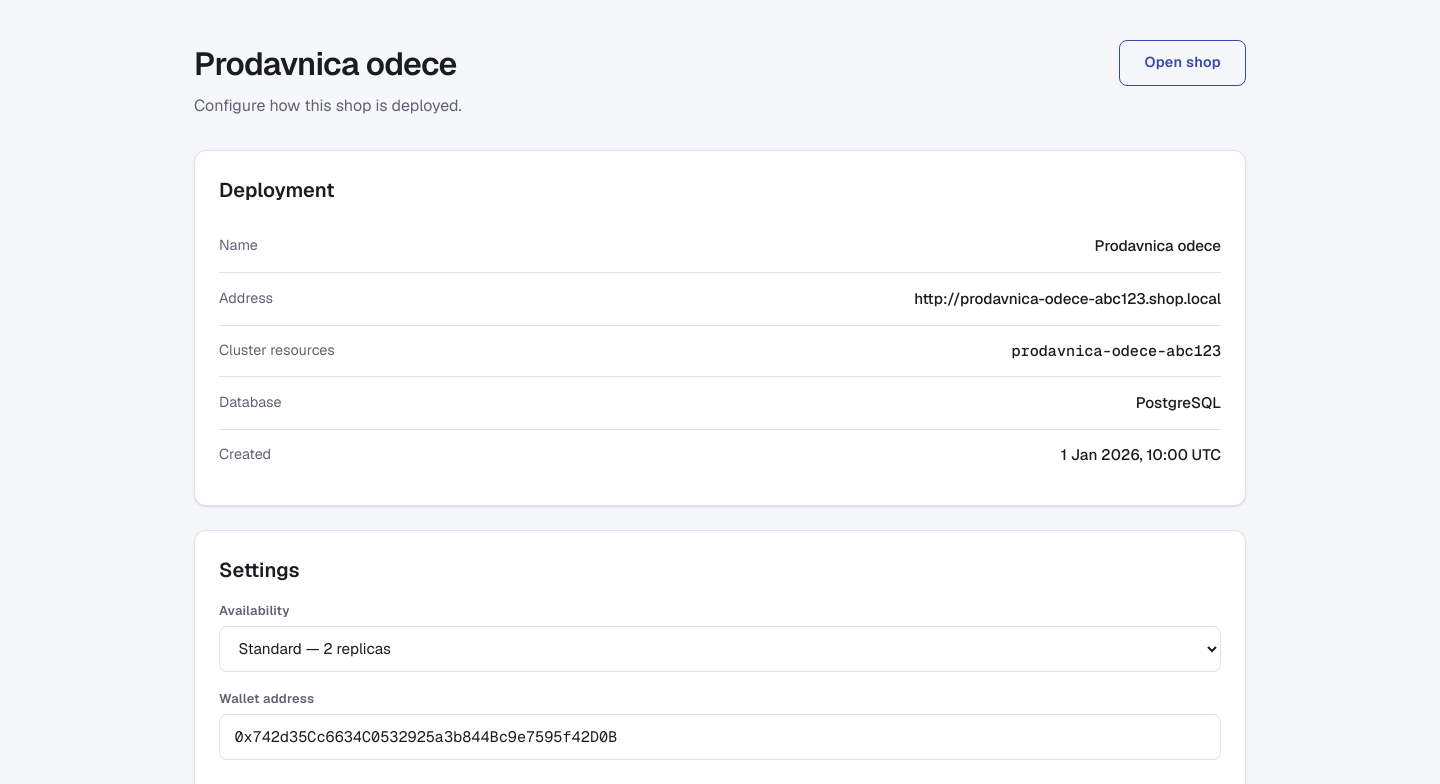
Test: ShopPage › confirms the change was accepted
Expected: the field labelled "Wallet address" is shown, left=219, top=714, right=1221, bottom=760
Select "High — 3 replicas" in the dropdown labelled "Availability": (720, 649) left=219, top=626, right=1221, bottom=672
(page scrolled)
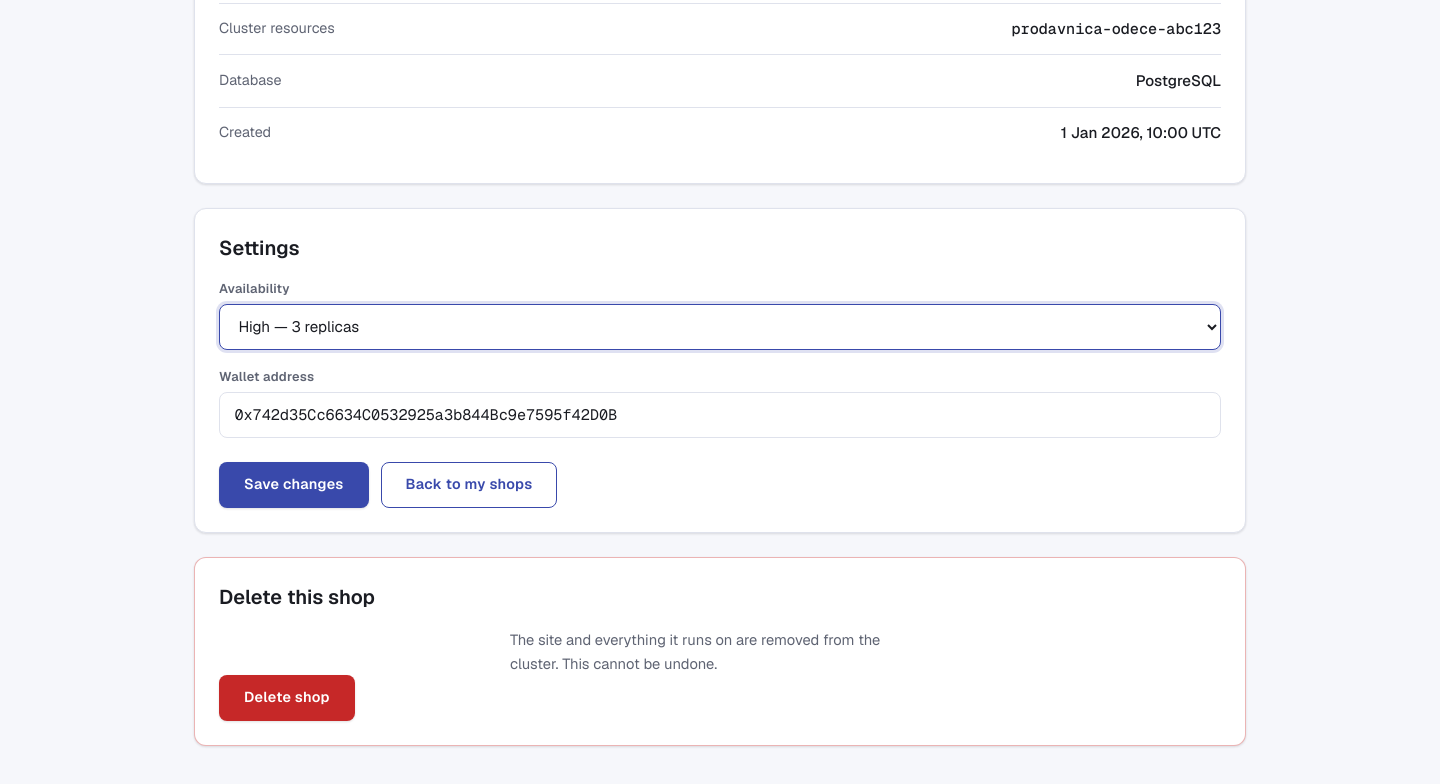
Click the button "Save changes": (294, 485) left=219, top=462, right=368, bottom=508
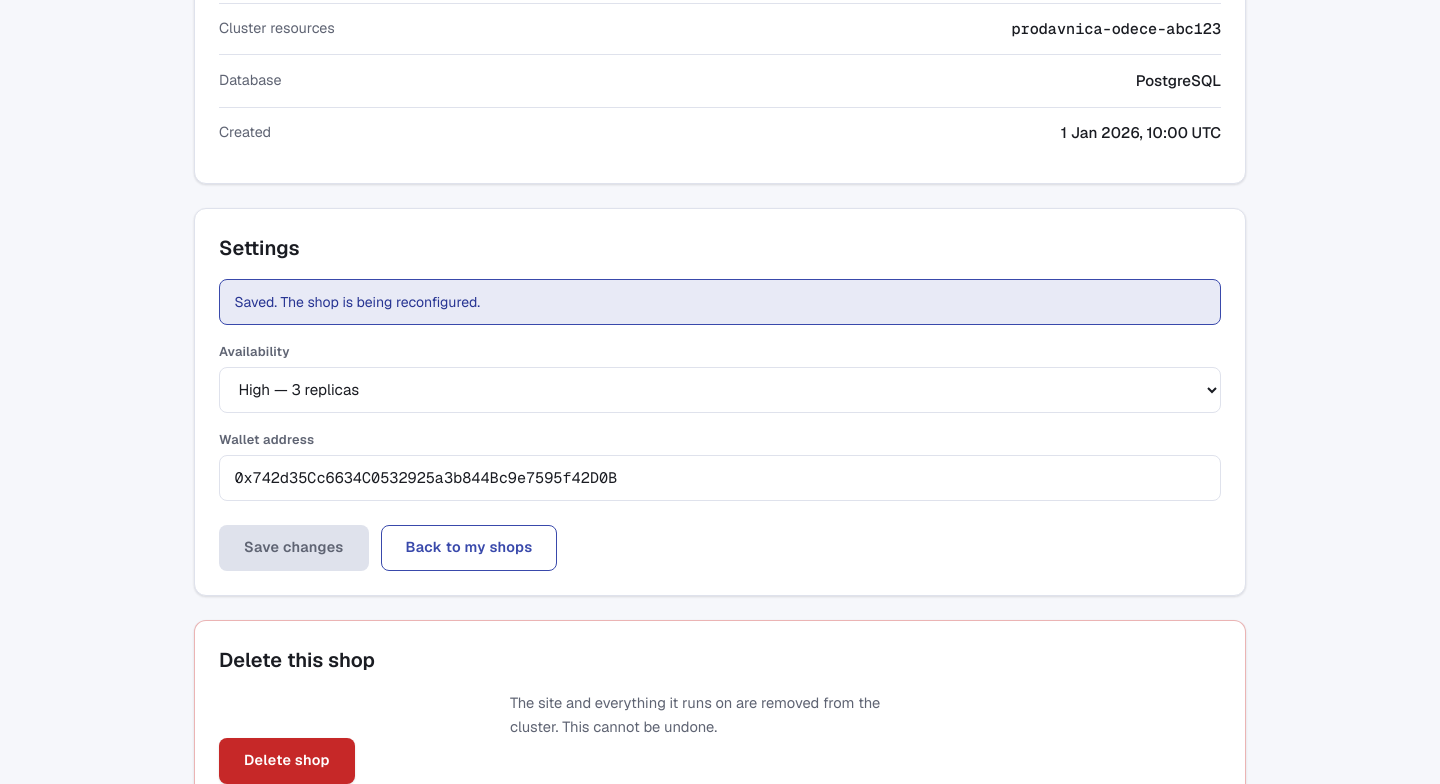
Result: the message shows "The shop is being reconfigured" at left=234, top=293, right=480, bottom=311
Result: the button "Save changes" is disabled at left=219, top=525, right=368, bottom=571
